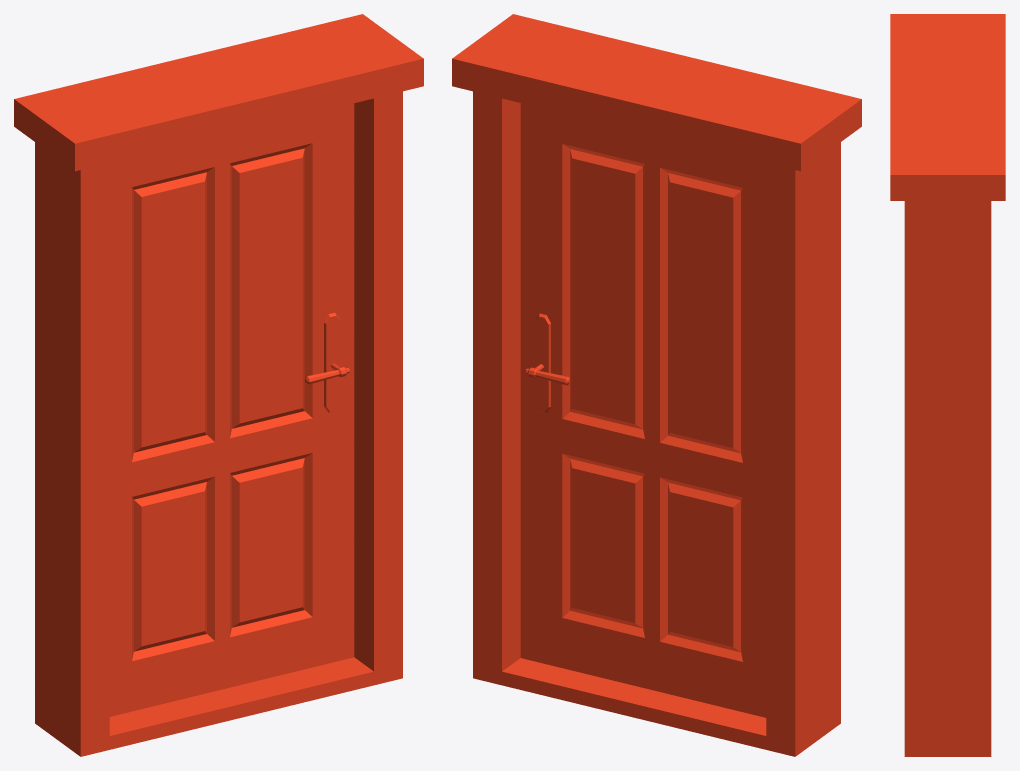
File: SM_Door_Single_B_Regular_Survival.fbx
3 views of the same model, side by side, from view 1: azimuth 30°, elevation 25°; view 2: azimuth 150°, elevation 25°; view 3: azimuth 270°, elevation 25° (orthographic). The views are drawn at different scales.
Parts seen in each view (by area): view 1: door-single-b-regular-door-survival, door-single-b-regular-frame-survival; view 2: door-single-b-regular-door-survival, door-single-b-regular-frame-survival; view 3: door-single-b-regular-frame-survival.
Part boxes in pixels (left/top/right/bottom): door-single-b-regular-door-survival: left=109, top=103, right=354, bottom=716; door-single-b-regular-frame-survival: left=14, top=14, right=423, bottom=756; door-single-b-regular-door-survival: left=520, top=103, right=766, bottom=717; door-single-b-regular-frame-survival: left=452, top=14, right=861, bottom=756; door-single-b-regular-frame-survival: left=890, top=14, right=1005, bottom=756.
Bounding box in the file's own units: 1.32 × 2.25 × 0.4.
